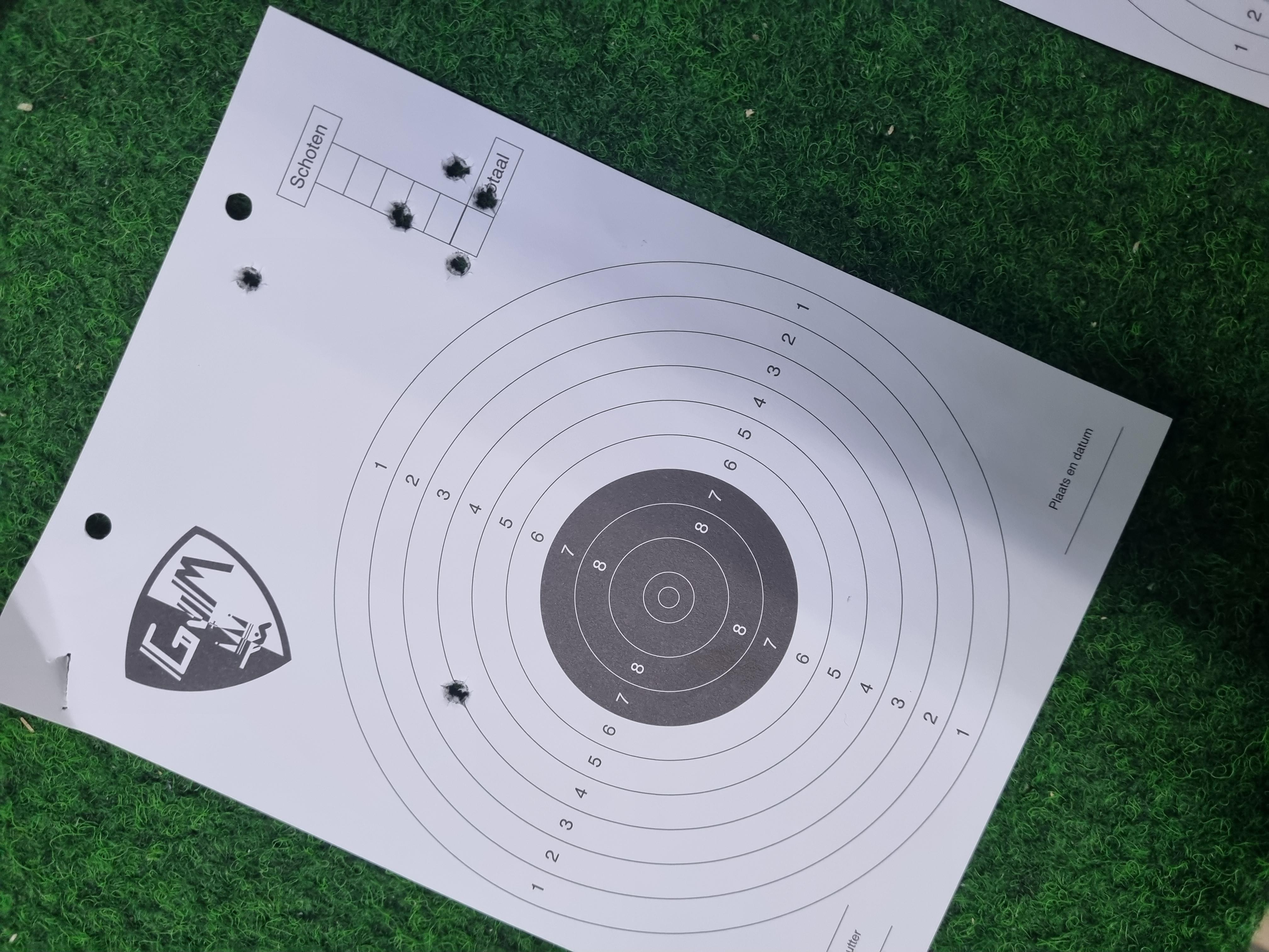hole: (1027, 330, 1066, 354), (958, 291, 1001, 310), (988, 353, 1024, 375), (327, 333, 363, 353), (880, 176, 914, 196), (899, 334, 932, 354)
